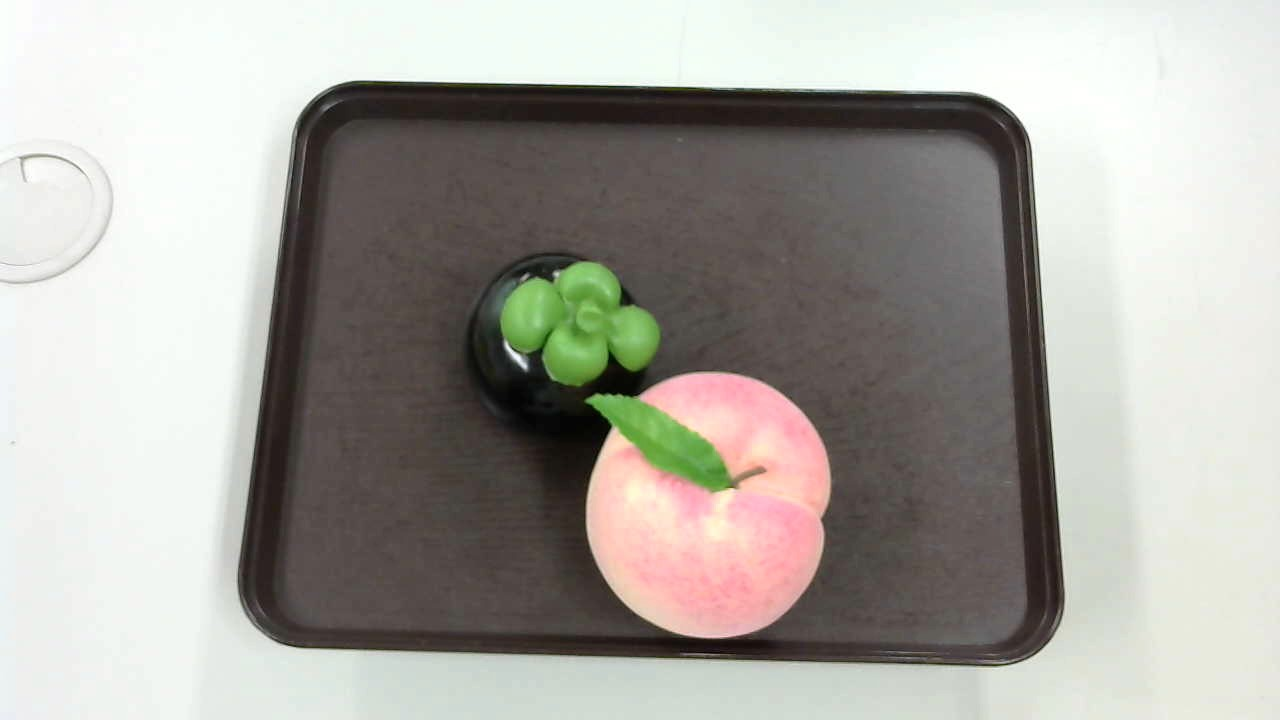mangosteen: (463, 248, 659, 430)
peach: (584, 369, 835, 644)
